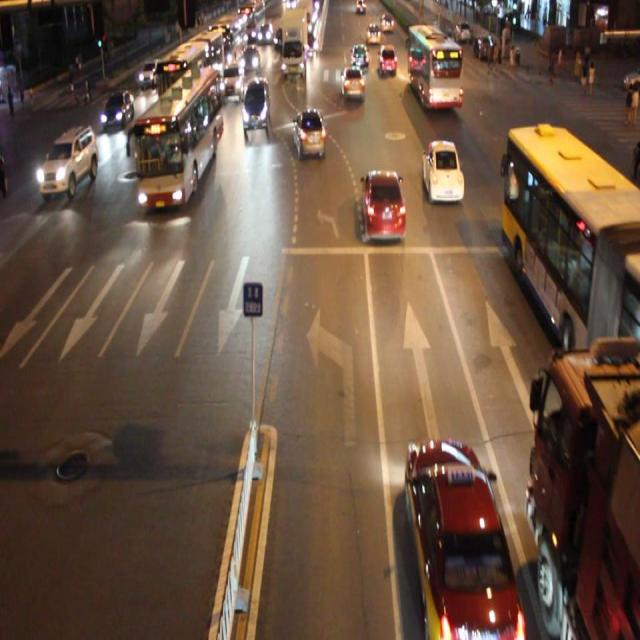bus: (525, 352, 640, 640)
car: (407, 438, 523, 640), (36, 128, 96, 196), (361, 169, 404, 236), (422, 137, 462, 201), (294, 106, 326, 156), (242, 76, 270, 130), (101, 87, 134, 129), (219, 60, 244, 98), (340, 65, 364, 100), (139, 55, 162, 87)
van: (503, 123, 640, 374), (136, 66, 216, 208), (408, 23, 461, 105)
